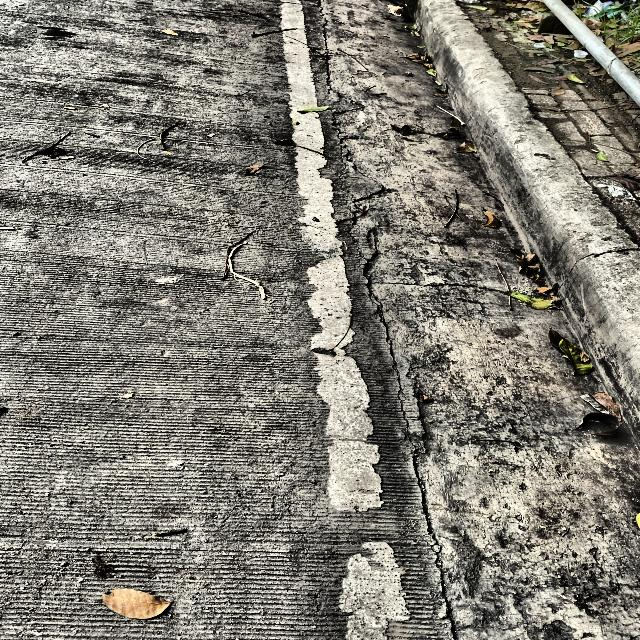no_or_faded_road_markings: (281, 0, 383, 512), (339, 541, 410, 640)
